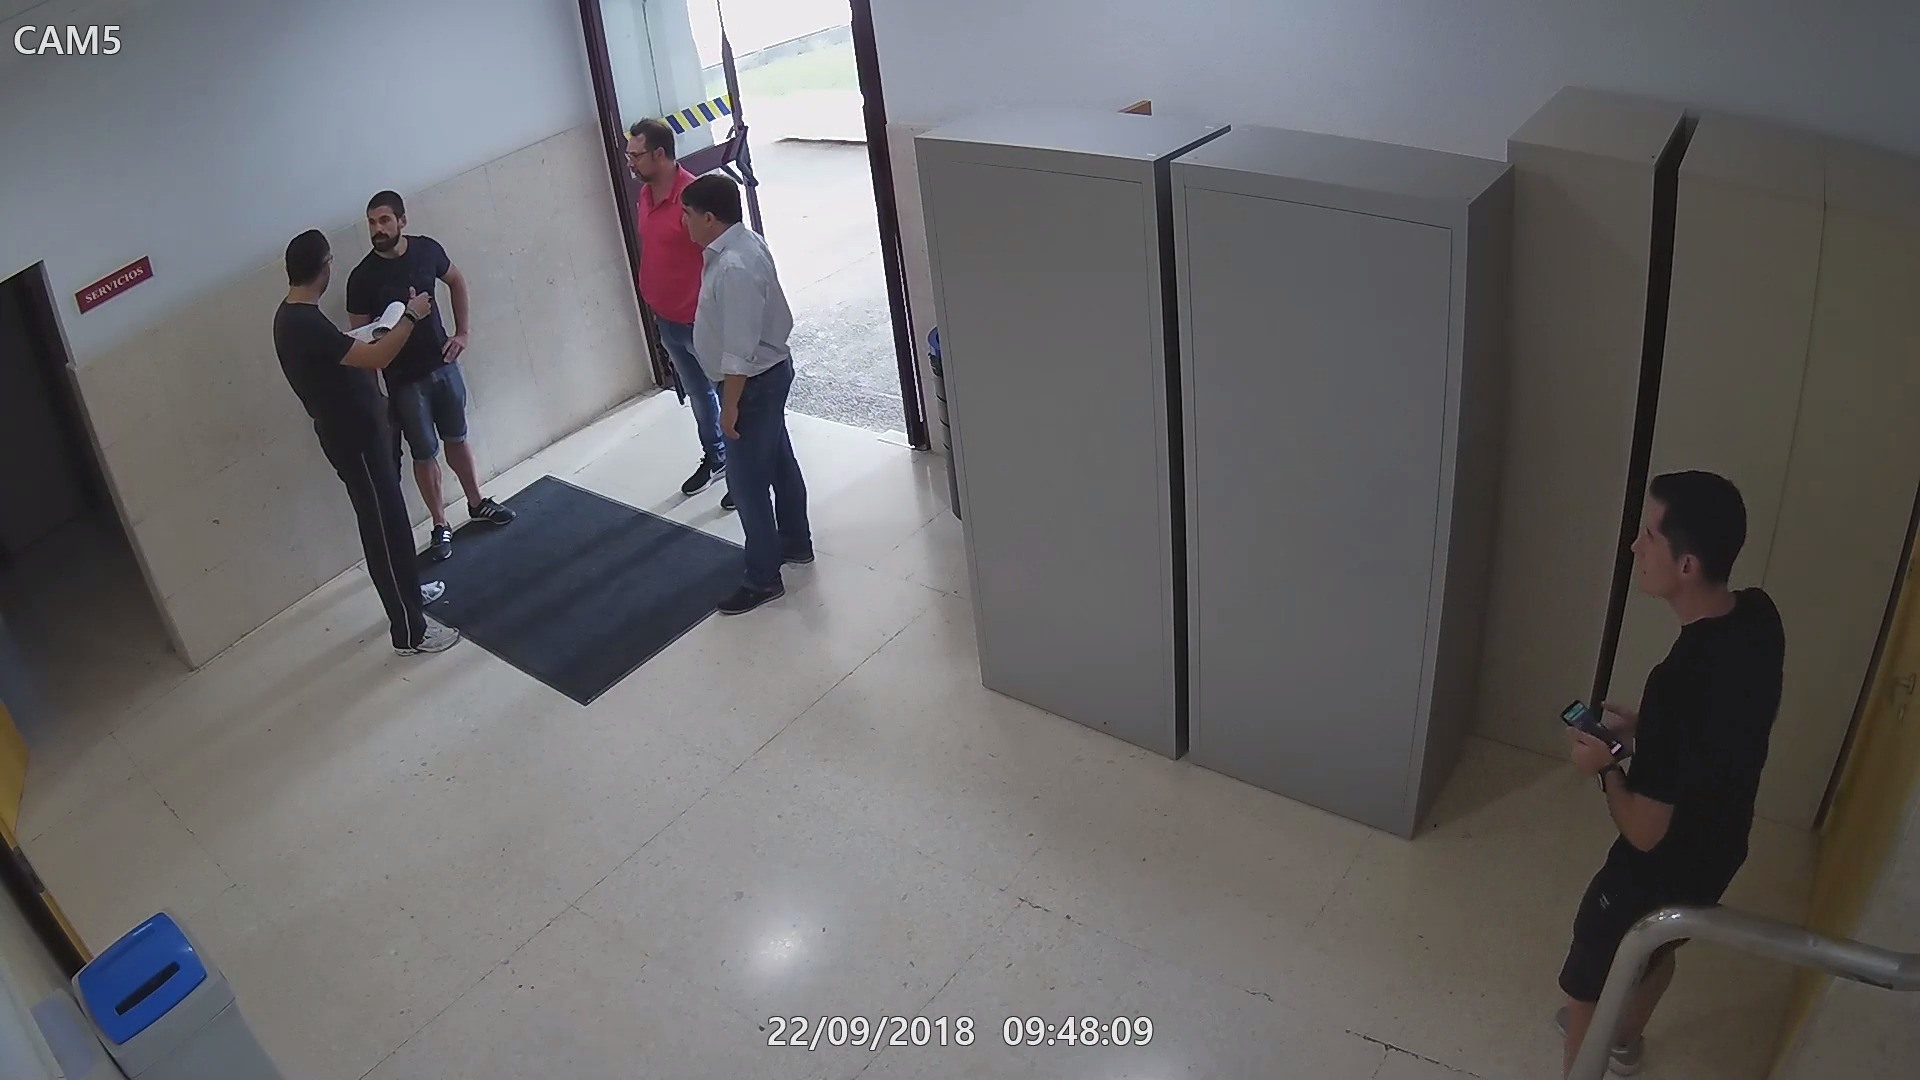Short_rifle: (649, 309, 688, 404), (378, 384, 411, 485)
